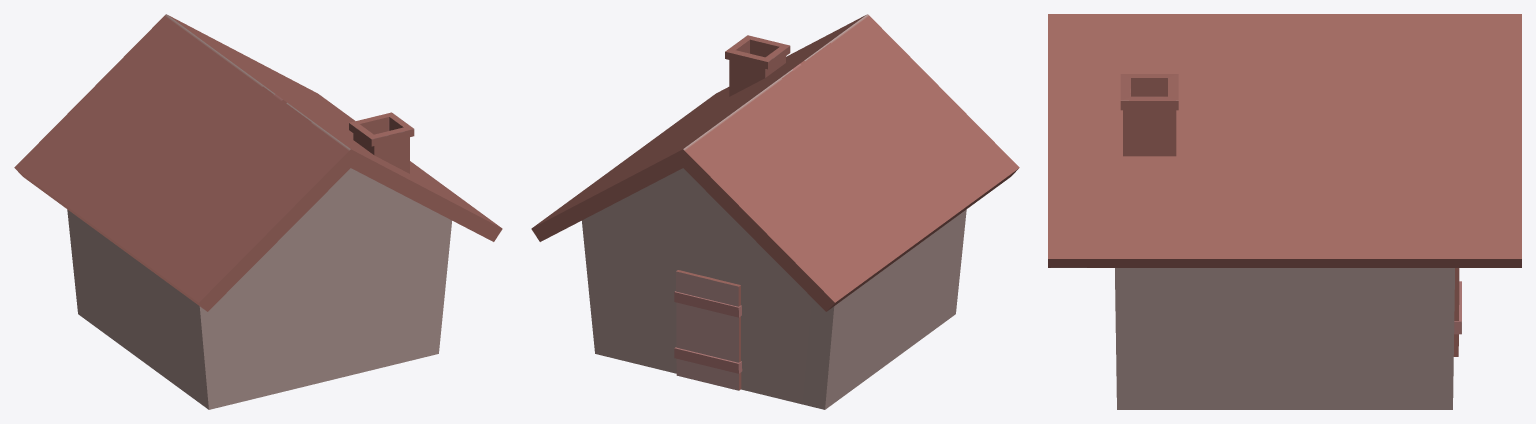
File: 鄉間小屋_3.fbx
The picture shows the model from 3 angles, left to right: view 1: azimuth 30°, elevation 25°; view 2: azimuth 150°, elevation 25°; view 3: azimuth 270°, elevation 25°; orthographic projection. The views are drawn at different scales.
Parts seen in each view (by area): view 1: polySurface2; view 2: polySurface2; view 3: polySurface2.
Boxes of the visible parts, left/top/right/bottom form: polySurface2: left=14, top=14, right=502, bottom=409; polySurface2: left=531, top=14, right=1019, bottom=409; polySurface2: left=1048, top=14, right=1521, bottom=409.
Size of the model in its own units: 26.12 by 20.73 by 27.49.
